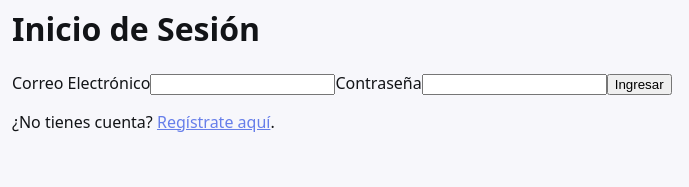
Test: LoginPage › muestra error del backend
The width and height of the screenshot is (689, 187).
Type "bad@mail.com" into the field.
click(243, 84); type("bad@mail.com")  # box top-left (150, 74), bottom-right (335, 95)
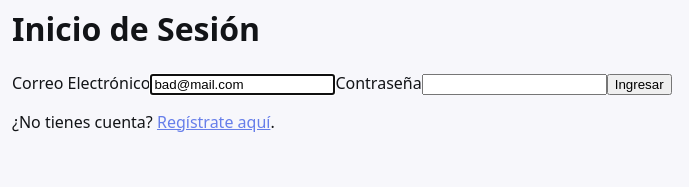
Type "nope" into the password field.
click(514, 84); type("nope")  # box top-left (422, 74), bottom-right (607, 95)
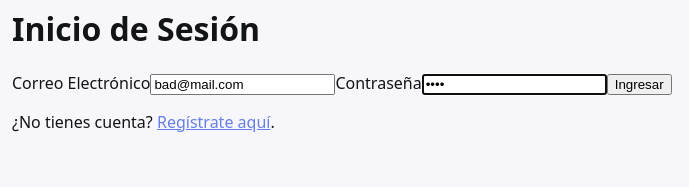
Click the button "Ingresar".
click(639, 84)  # box top-left (607, 74), bottom-right (672, 95)
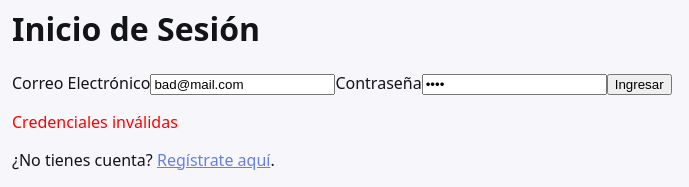
Result: the text "Credenciales inválidas" is shown at top-left (12, 111), bottom-right (178, 133)
